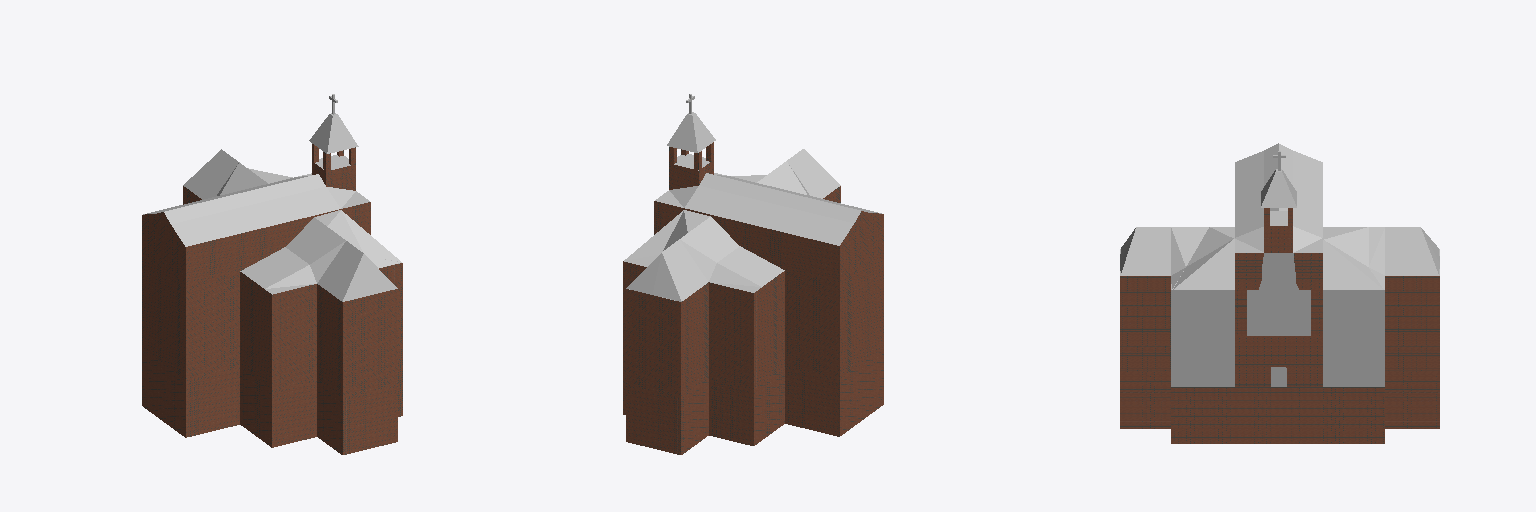
The picture shows the model from 3 angles: view 1: azimuth 30°, elevation 25°; view 2: azimuth 150°, elevation 25°; view 3: azimuth 270°, elevation 25°; orthographic projection.
Parts seen in each view (by area): view 1: Cube_Cube.001, Cube.005; view 2: Cube_Cube.001, Cube.005; view 3: Cube_Cube.001, Cube.005.
Boxes of the visible parts, <box> form: Cube_Cube.001: <box>142,149,402,454</box>; Cube.005: <box>309,113,358,153</box>; Cube_Cube.001: <box>623,149,883,454</box>; Cube.005: <box>667,112,715,152</box>; Cube_Cube.001: <box>1120,143,1439,443</box>; Cube.005: <box>1261,169,1296,207</box>.
Bounding box in the file's own units: 6.51 × 9.54 × 9.68.
5 materials, 1 textured.